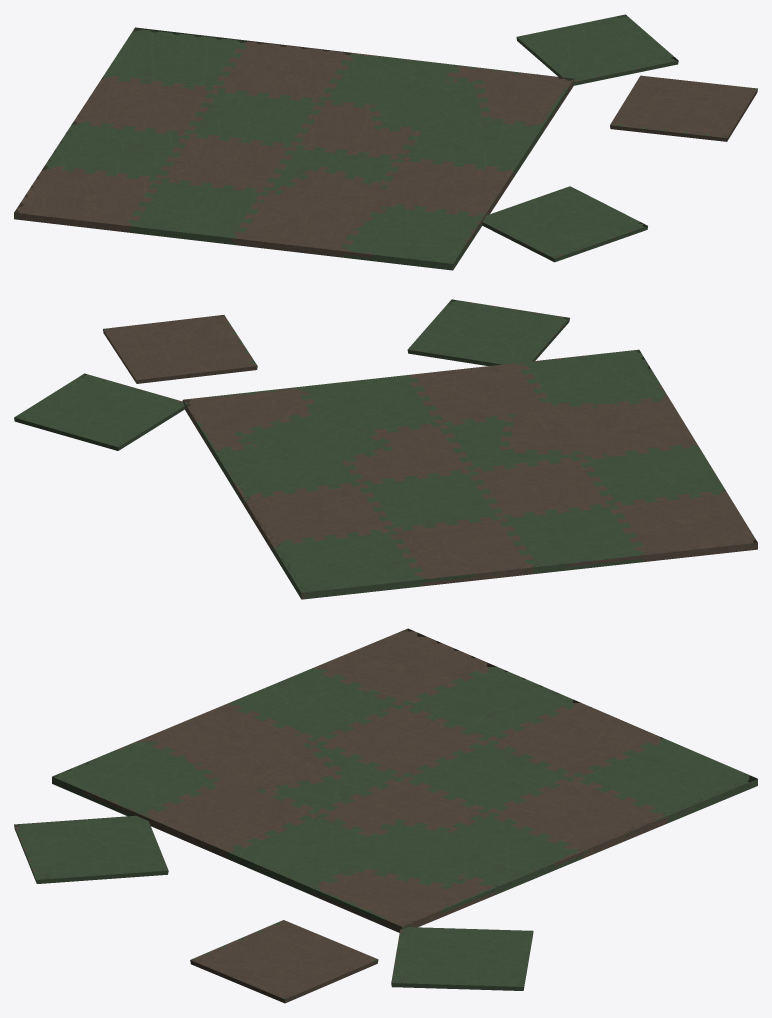
The model's file is karpet.fbx.
3 views of the same model, one above another, from view 1: azimuth 30°, elevation 25°; view 2: azimuth 150°, elevation 25°; view 3: azimuth 270°, elevation 25° (orthographic). The views are drawn at different scales.
Parts seen in each view (by area): view 1: karpet; view 2: karpet; view 3: karpet.
Boxes of the visible parts, x1,y1,x2,y2 form: karpet: (14,14,757,270); karpet: (14,299,757,599); karpet: (14,628,757,1003).
Size of the model in its own units: 219 by 2.02 by 187.
1 material, 1 textured.
